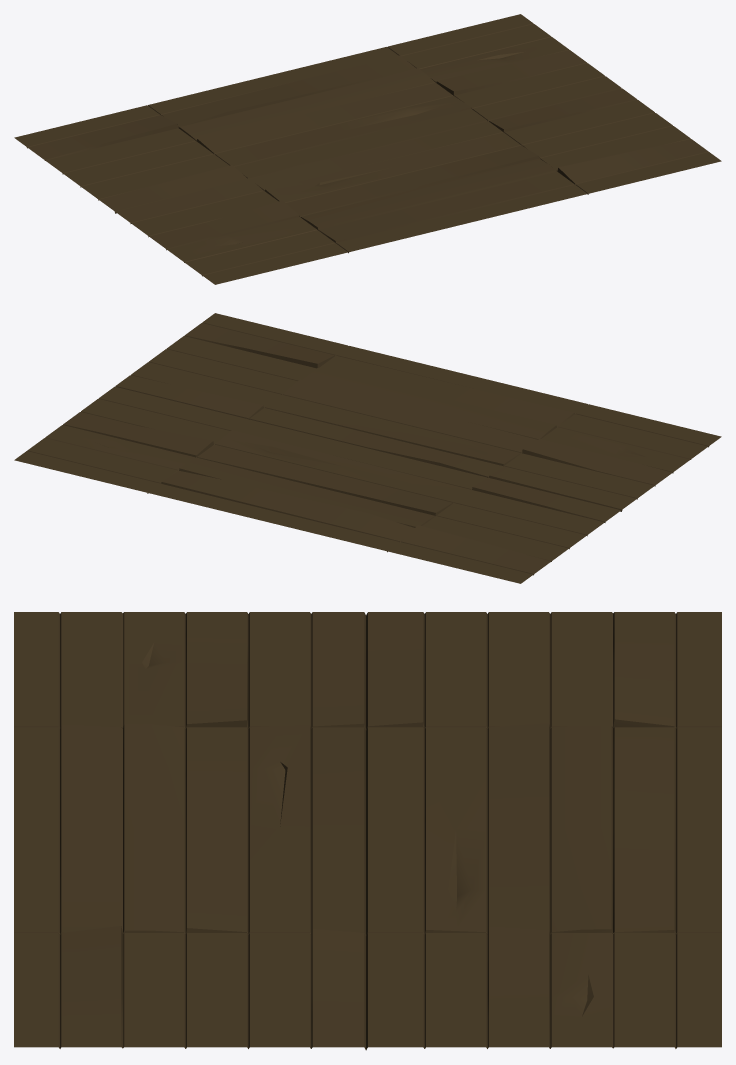
File: Floor.fbx
3 renders of one model, top to bottom at view 1: azimuth 30°, elevation 25°; view 2: azimuth 150°, elevation 25°; view 3: azimuth 270°, elevation 25°, orthographic. The views are drawn at different scales.
Parts seen in each view (by area): view 1: Floor; view 2: Floor; view 3: Floor.
Boxes of the visible parts, x1,y1,x2,y2 form: Floor: (14,14,721,284); Floor: (14,313,721,583); Floor: (14,612,721,1050).
Size of the model in its own units: 600 by 8.1 by 412.
